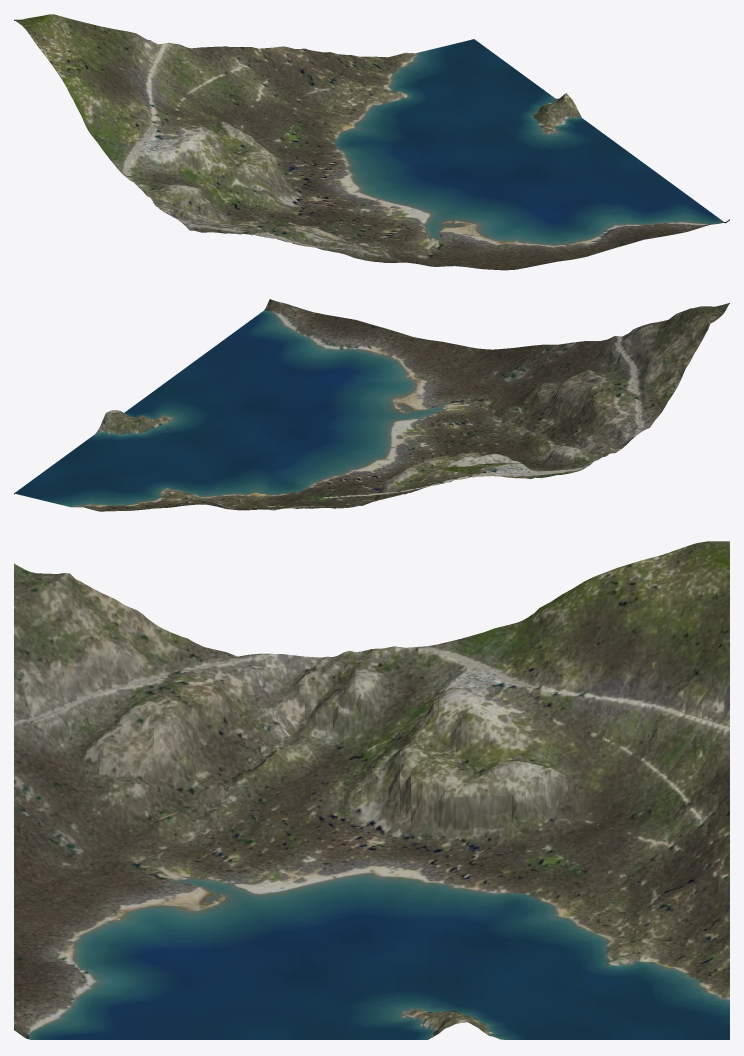
3 views of the same model, one above another, from view 1: azimuth 30°, elevation 25°; view 2: azimuth 150°, elevation 25°; view 3: azimuth 270°, elevation 25° (orthographic). The views are drawn at different scales.
Bounding box in the file's own units: 1000 × 276 × 963.
Materials: 1 (1 with a texture image).
